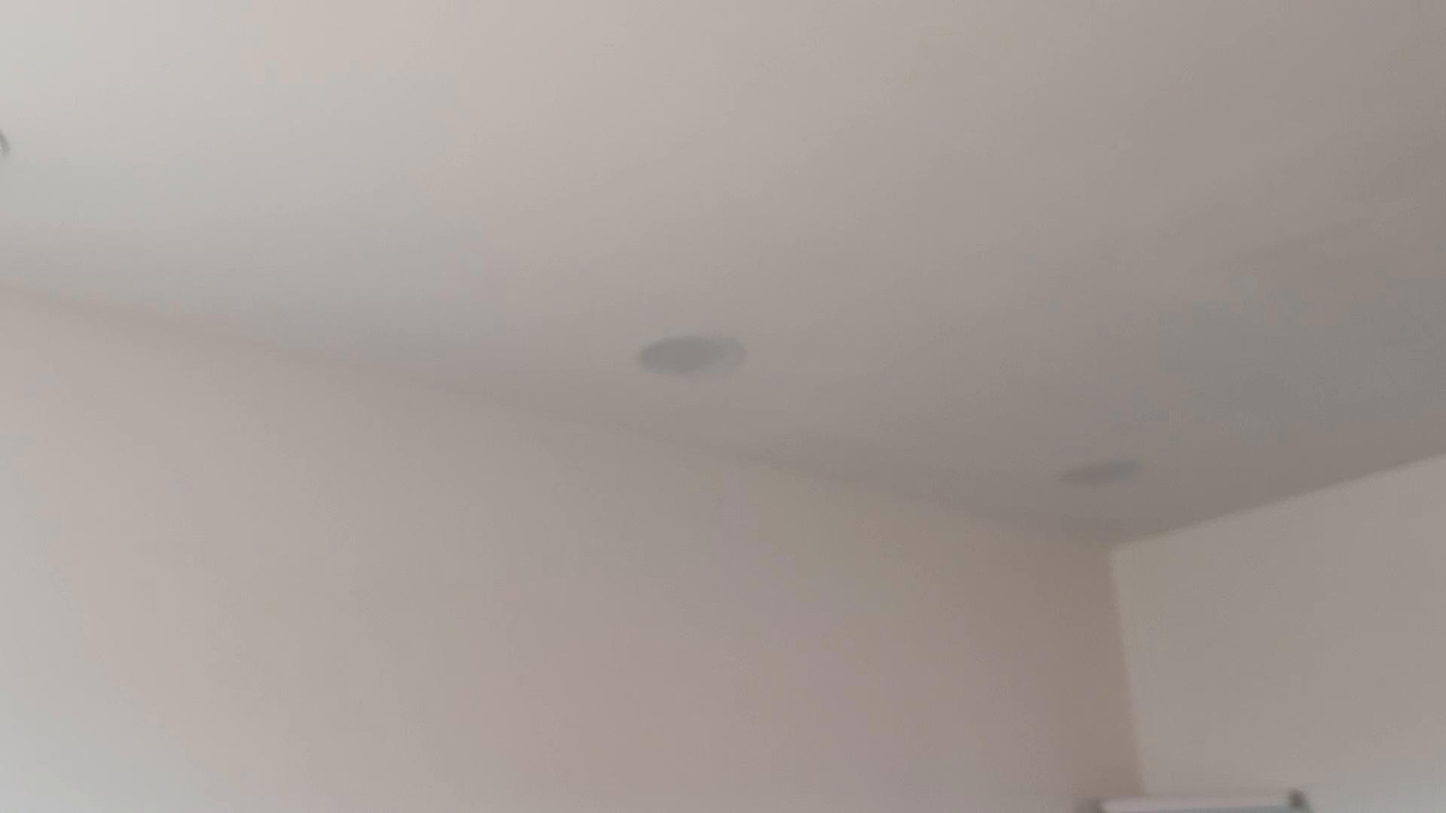ceiling: (0, 2, 1445, 540)
wall: (4, 289, 1141, 812), (1112, 458, 1445, 812)
